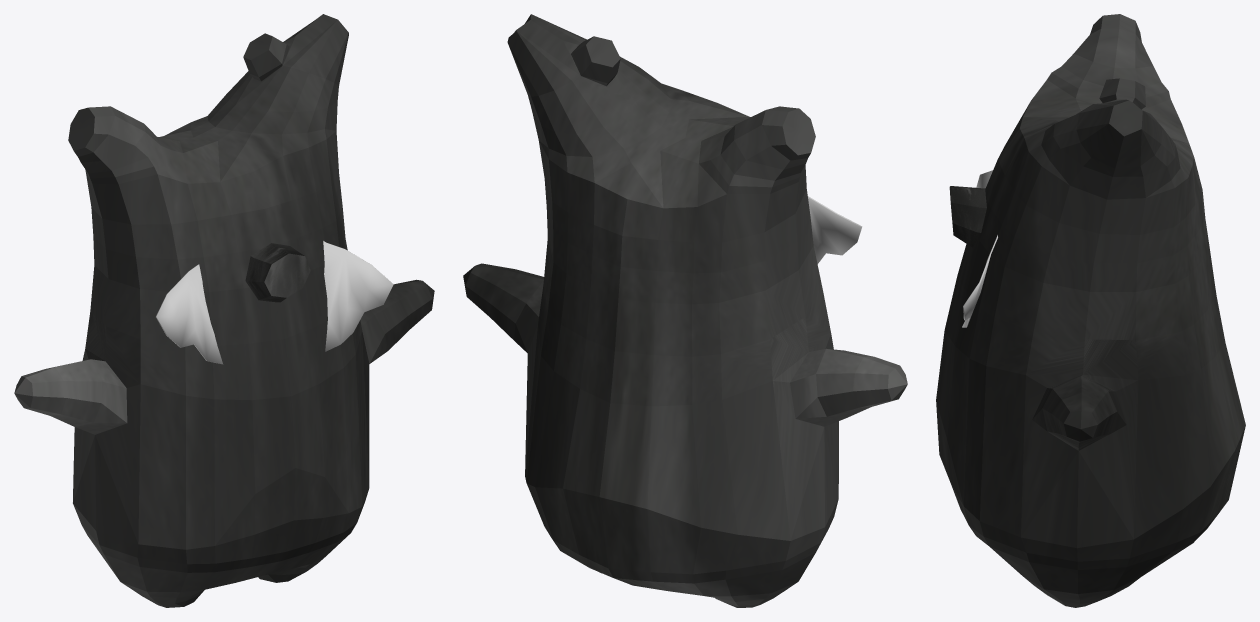
The model's file is frame_0033.obj.
3 views of the same model, side by side, from view 1: azimuth 30°, elevation 25°; view 2: azimuth 150°, elevation 25°; view 3: azimuth 270°, elevation 25° (orthographic). The views are drawn at different scales.
Visible parts, largest first — view 1: korok, leaf, nose; view 2: korok, leaf; view 3: korok, nose, leaf.
Boxes of the visible parts, x1=… form: korok: x1=14, y1=14, x2=434, y2=607; leaf: x1=156, y1=241, x2=393, y2=364; nose: x1=245, y1=243, x2=310, y2=302; korok: x1=463, y1=14, x2=907, y2=607; leaf: x1=808, y1=196, x2=862, y2=263; korok: x1=936, y1=14, x2=1245, y2=607; nose: x1=949, y1=186, x2=986, y2=247; leaf: x1=962, y1=170, x2=997, y2=327.
Bounding box in the file's own units: 1.86 × 2.24 × 1.17.
